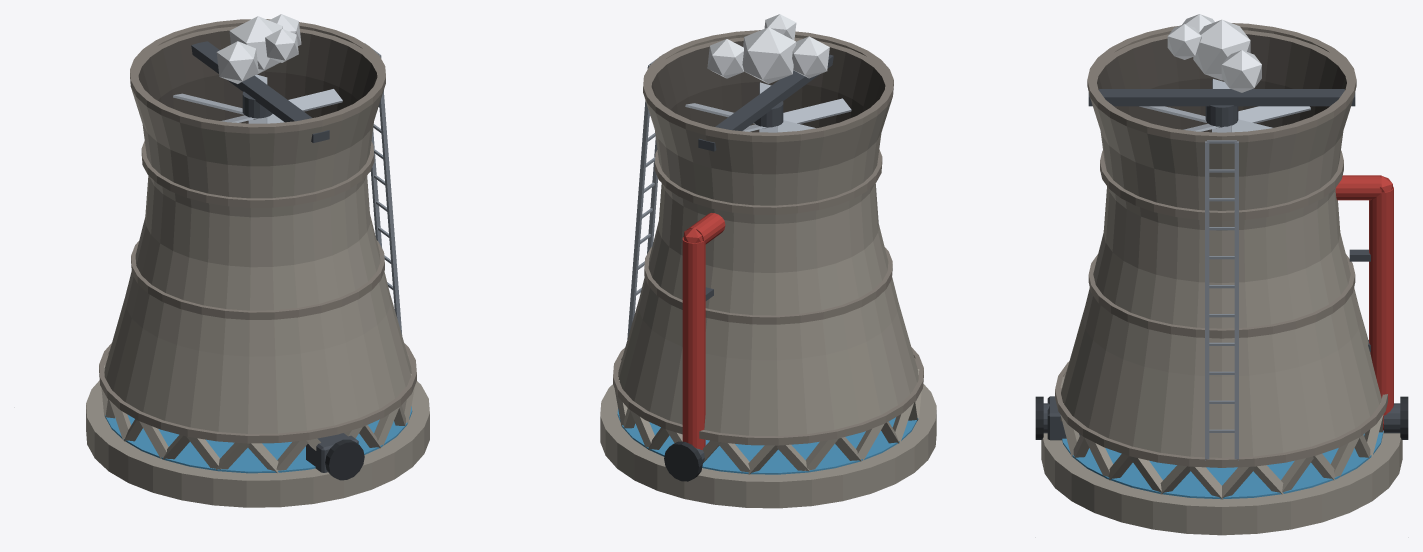
File: tour_refroidissement_t2.glb
3 views of the same model, side by side, from view 1: azimuth 30°, elevation 25°; view 2: azimuth 150°, elevation 25°; view 3: azimuth 270°, elevation 25° (orthographic). The views are drawn at different scales.
Visible parts, largest first — view 1: coque.002, bassin.002, coque_dedans.002, coque_levre.002, pieces_beton.046, cerclage_0.002, bassin_eau.002, pieces_acier_sombre.050, cerclage_1.002, cerclage_2.002, pieces_acier.044, ventilateur_gris_clair.002 (+4 smaller); view 2: coque.002, bassin.002, coque_dedans.002, pieces_rouge.014, coque_levre.002, pieces_beton.046, bassin_eau.002, cerclage_0.002, pieces_acier_sombre.050, cerclage_1.002, cerclage_2.002, jet_vapeur_0_blanc.002 (+5 smaller); view 3: coque.002, bassin.002, coque_dedans.002, pieces_acier_sombre.050, pieces_rouge.014, coque_levre.002, pieces_beton.046, bassin_eau.002, pieces_acier.044, cerclage_0.002, cerclage_1.002, cerclage_2.002 (+5 smaller).
Boxes of the visible parts, x1,y1,x2,y2 form: coque.002: (104, 86, 411, 433); bassin.002: (86, 380, 429, 507); coque_dedans.002: (138, 30, 377, 123); coque_levre.002: (130, 19, 385, 133); pieces_beton.046: (101, 353, 414, 472); cerclage_0.002: (99, 343, 416, 443); bassin_eau.002: (105, 406, 412, 473); pieces_acier_sombre.050: (191, 41, 358, 472); cerclage_1.002: (131, 240, 384, 319); cerclage_2.002: (141, 141, 374, 207); pieces_acier.044: (365, 43, 402, 335); ventilateur_gris_clair.002: (173, 74, 342, 123); coque.002: (618, 95, 918, 436); bassin.002: (600, 384, 936, 508); coque_dedans.002: (651, 41, 885, 132); pieces_rouge.014: (682, 213, 725, 449); coque_levre.002: (643, 30, 893, 142); pieces_beton.046: (614, 357, 921, 474); bassin_eau.002: (617, 409, 918, 474); cerclage_0.002: (613, 347, 923, 445); pieces_acier_sombre.050: (696, 54, 833, 463); cerclage_1.002: (644, 247, 892, 324); cerclage_2.002: (654, 149, 882, 214); jet_vapeur_0_blanc.002: (742, 27, 796, 83); coque.002: (1061, 98, 1381, 457); bassin.002: (1041, 432, 1402, 535); coque_dedans.002: (1097, 34, 1346, 132); pieces_acier_sombre.050: (1043, 89, 1400, 440); pieces_rouge.014: (1335, 175, 1393, 430); coque_levre.002: (1087, 23, 1356, 142); pieces_beton.046: (1060, 377, 1383, 499); bassin_eau.002: (1062, 430, 1383, 499); pieces_acier.044: (1205, 140, 1238, 460); cerclage_0.002: (1055, 361, 1387, 467); cerclage_1.002: (1088, 254, 1355, 338); cerclage_2.002: (1100, 150, 1343, 220).
Size of the model in its own units: 1.5 by 1.94 by 1.5.
